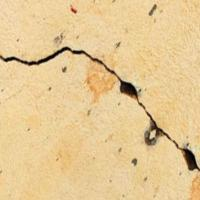crack: (0, 34, 199, 170)
